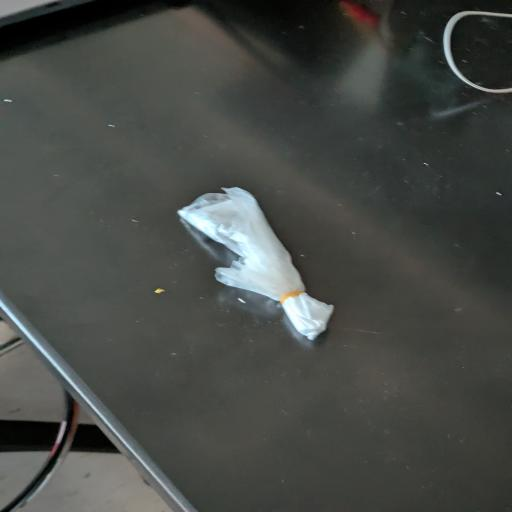rubberband: (175, 184, 340, 346)
